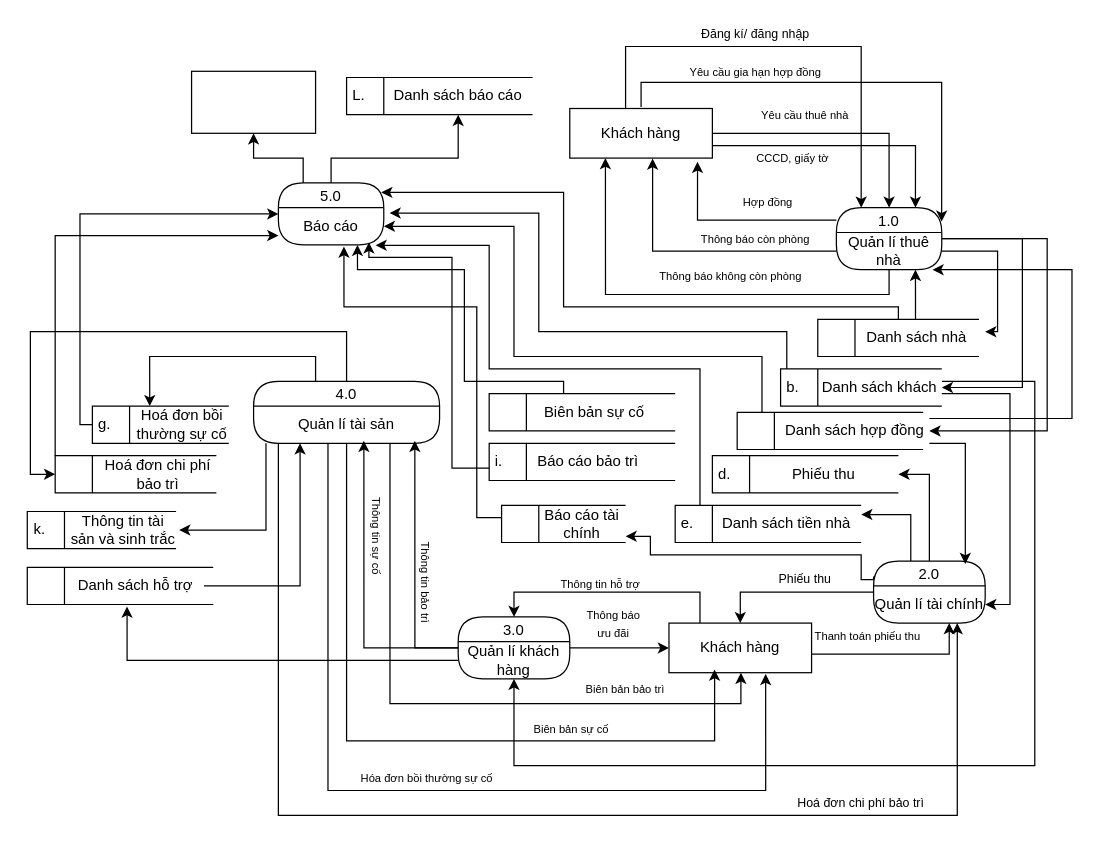
This 1104x847 diagram has some shape labels left out. Each missing label, with the box of its shape:
a.: (817, 318, 979, 356)
c.: (736, 411, 923, 450)
Chủ trọ: (190, 70, 316, 133)
f.: (488, 392, 675, 431)
h.: (54, 454, 216, 493)
m.: (26, 566, 213, 604)
n.: (500, 504, 626, 542)
